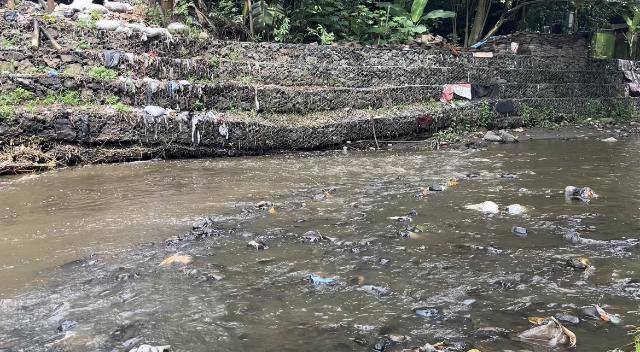Sampah Anorganik: (513, 319, 578, 350), (41, 322, 104, 346), (587, 303, 625, 328), (562, 183, 599, 200), (301, 272, 334, 287), (461, 202, 497, 214), (506, 204, 528, 216), (388, 216, 413, 222)
Sampah Organik: (381, 337, 456, 352), (154, 253, 200, 266), (406, 223, 428, 240), (577, 258, 593, 271), (264, 206, 277, 215), (164, 237, 178, 243), (325, 191, 333, 199)
